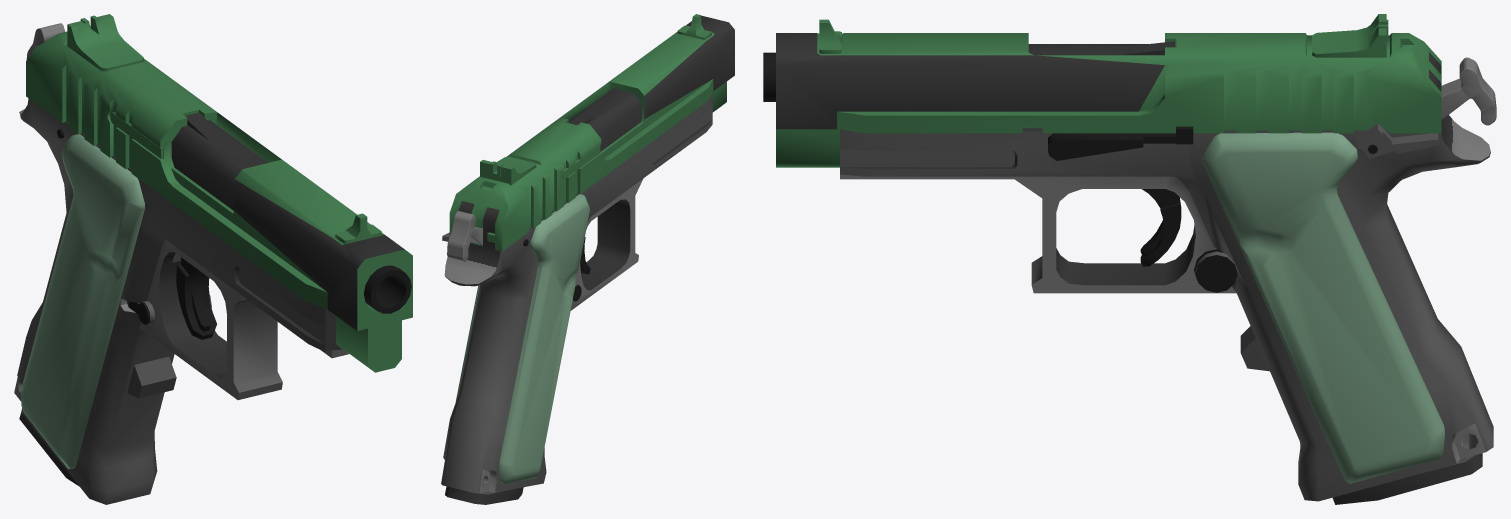
The model's file is UAC pistol.obj.
The picture shows the model from 3 angles, left to right: view 1: azimuth 30°, elevation 25°; view 2: azimuth 150°, elevation 25°; view 3: azimuth 270°, elevation 25°; orthographic projection. The views are drawn at different scales.
Visible parts, largest first — view 1: lower_pistol_0, slide_pistol_0, trigger_pistol_0, mag_pistol_0, bool_obj_bool_obj_data.002; view 2: lower_pistol_0, slide_pistol_0, bool_obj_bool_obj_data.002, mag_pistol_0; view 3: lower_pistol_0, slide_pistol_0, mag_pistol_0, bool_obj_bool_obj_data.002, trigger_pistol_0.
Part boxes in pixels (bbox=[...]): lower_pistol_0: bbox=[14, 98, 411, 504]; slide_pistol_0: bbox=[26, 14, 412, 372]; trigger_pistol_0: bbox=[176, 257, 216, 339]; mag_pistol_0: bbox=[19, 412, 79, 486]; bool_obj_bool_obj_data.002: bbox=[26, 23, 65, 59]; lower_pistol_0: bbox=[441, 88, 712, 493]; slide_pistol_0: bbox=[449, 14, 734, 251]; bool_obj_bool_obj_data.002: bbox=[447, 211, 482, 261]; mag_pistol_0: bbox=[445, 477, 523, 504]; lower_pistol_0: bbox=[763, 41, 1493, 501]; slide_pistol_0: bbox=[776, 14, 1441, 167]; mag_pistol_0: bbox=[1332, 433, 1482, 504]; bool_obj_bool_obj_data.002: bbox=[1441, 57, 1496, 125]; trigger_pistol_0: bbox=[1140, 189, 1181, 266].
Size of the model in its own units: 4.43 by 21.22 by 29.49.
